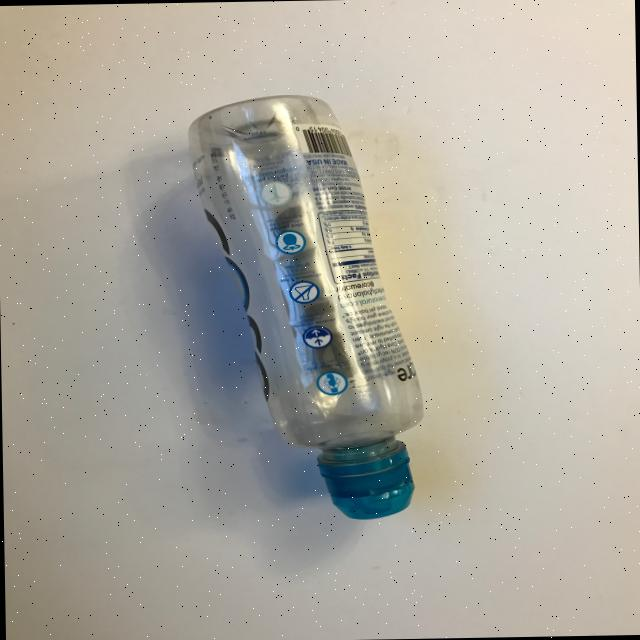plastic: (82, 72, 536, 552)
